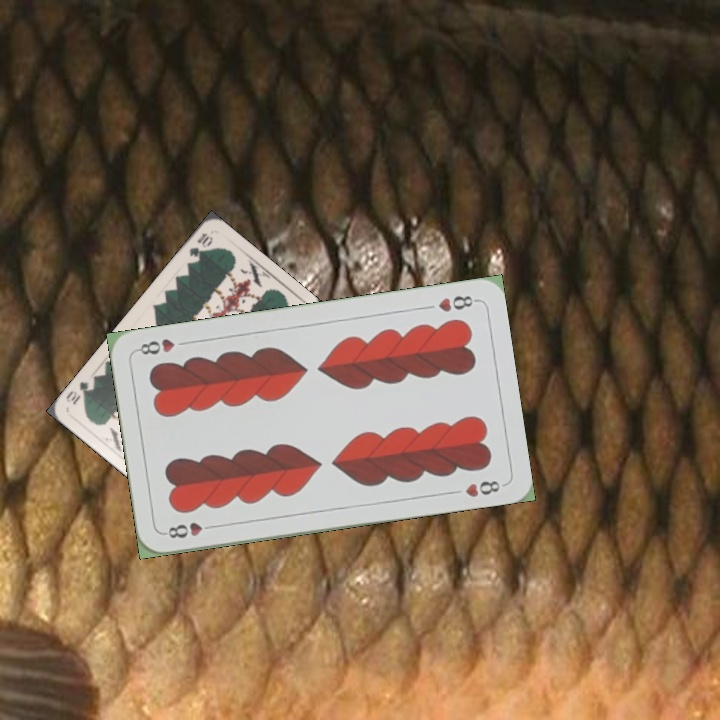G10: (185, 229, 216, 261)
H8: (161, 518, 220, 541), (434, 291, 479, 315)
